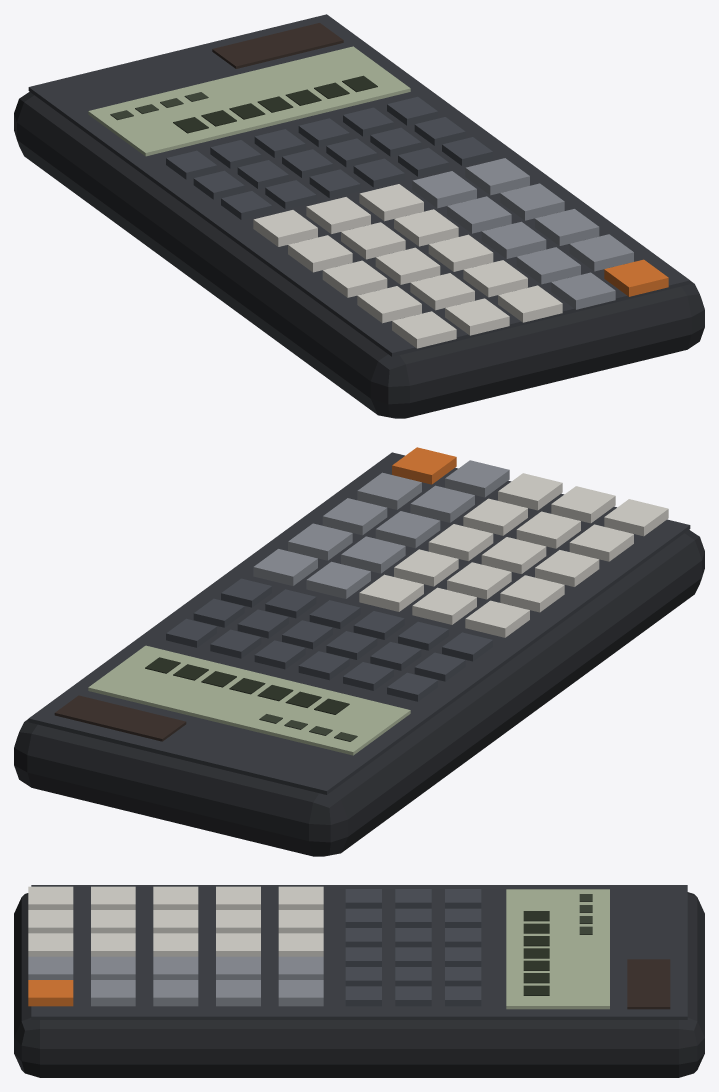
Rendered from calc_engineering.glb.
3 renders of one model, top to bottom at view 1: azimuth 30°, elevation 25°; view 2: azimuth 150°, elevation 25°; view 3: azimuth 270°, elevation 25°, orthographic. The views are drawn at different scales.
Parts seen in each view (by area): view 1: calc_keys, calc_body, calc_face, calc_lcd, calc_solar; view 2: calc_keys, calc_body, calc_face, calc_lcd, calc_solar; view 3: calc_body, calc_keys, calc_face, calc_lcd, calc_solar.
Part boxes in pixels (left/top/right/bottom): calc_keys: left=110, top=75, right=668, bottom=348; calc_body: left=14, top=92, right=704, bottom=418; calc_face: left=28, top=14, right=690, bottom=356; calc_lcd: left=88, top=46, right=410, bottom=156; calc_solar: left=212, top=23, right=343, bottom=68; calc_keys: left=145, top=447, right=668, bottom=741; calc_body: left=14, top=530, right=704, bottom=856; calc_face: left=28, top=452, right=690, bottom=794; calc_lcd: left=88, top=645, right=410, bottom=755; calc_solar: left=54, top=695, right=186, bottom=741; calc_body: left=14, top=892, right=704, bottom=1077; calc_keys: left=28, top=886, right=592, bottom=1006; calc_face: left=31, top=885, right=687, bottom=1019; calc_lcd: left=506, top=889, right=609, bottom=1009; calc_solar: left=627, top=959, right=670, bottom=1009.
Bounding box in the file's own units: 0.08 × 0.0186 × 0.16.
